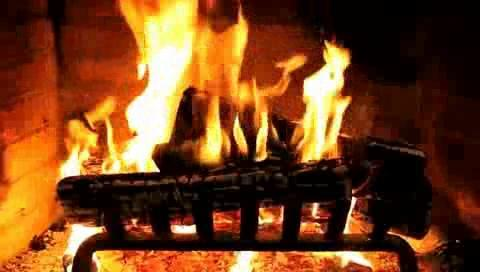fire: (102, 5, 347, 181)
